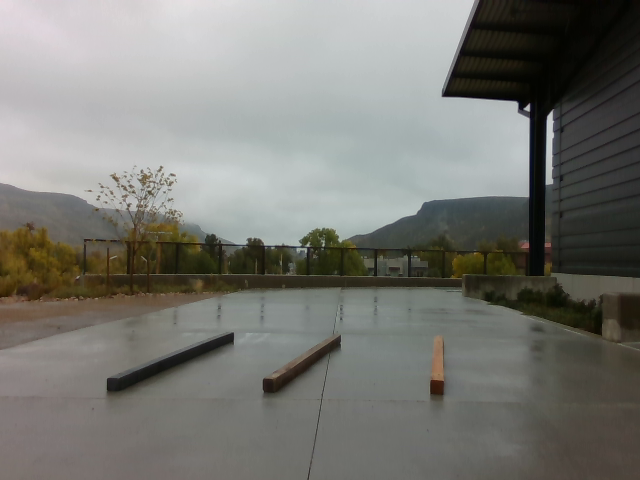dunnage: (102, 326, 457, 405)
